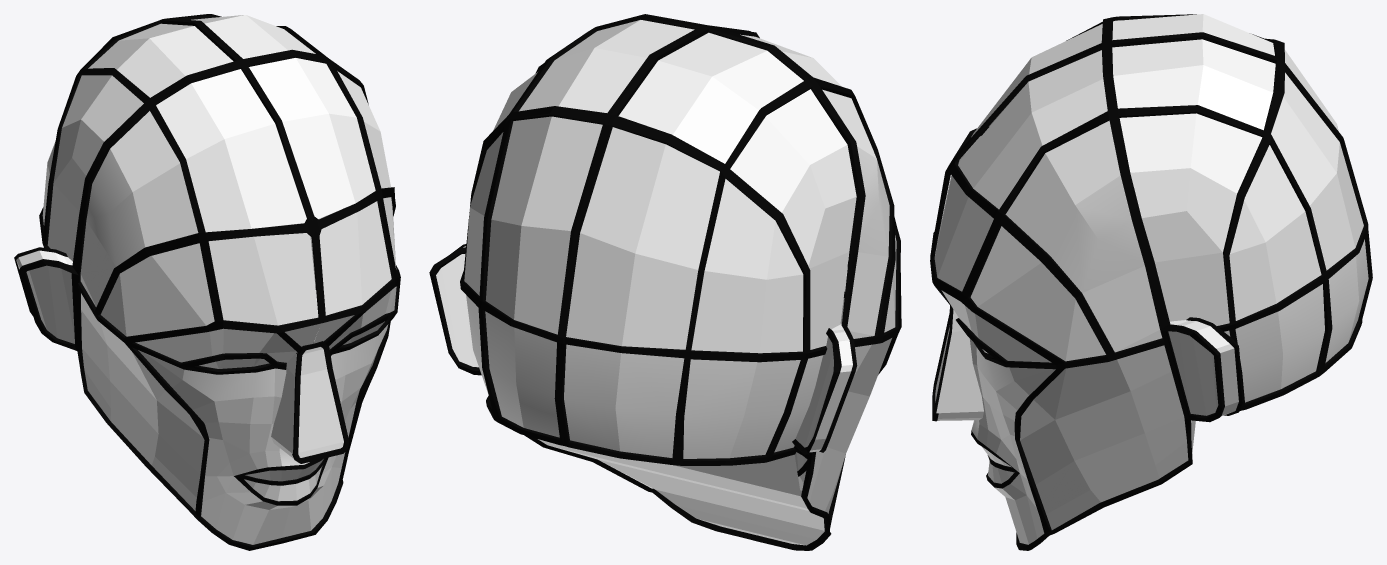
File: pm-ca-head.glb
3 views of the same model, side by side, from view 1: azimuth 30°, elevation 25°; view 2: azimuth 150°, elevation 25°; view 3: azimuth 270°, elevation 25° (orthographic). The views are drawn at different scales.
Parts seen in each view (by area): view 1: CA_Head; view 2: CA_Head; view 3: CA_Head.
Part boxes in pixels (bbox=[...]): CA_Head: bbox=[14, 14, 400, 550]; CA_Head: bbox=[429, 14, 901, 550]; CA_Head: bbox=[930, 14, 1372, 550].
Size of the model in its own units: 0.8745 by 1.12 by 0.8977.
Materials: 1 (1 with a texture image).
